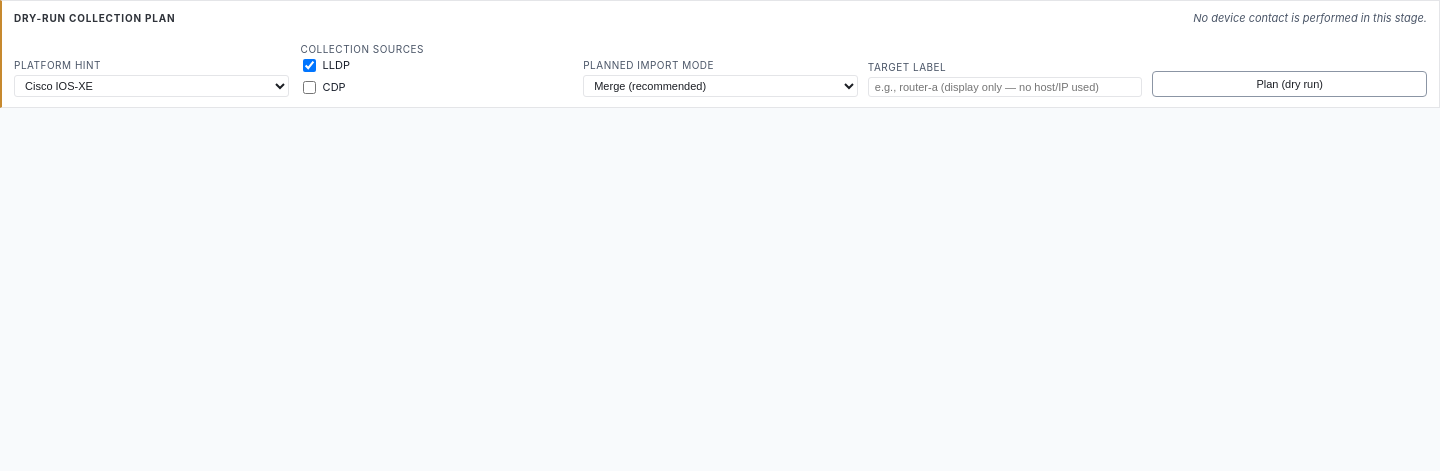
Test: LiveCollectionDryRunPanel — V1AU fixture simulator › renders fixture simulator section after ready plan with honesty note
Click the button with test id "tm-live-collection-plan-button" at (1290, 84), box [1152,71,1427,97]
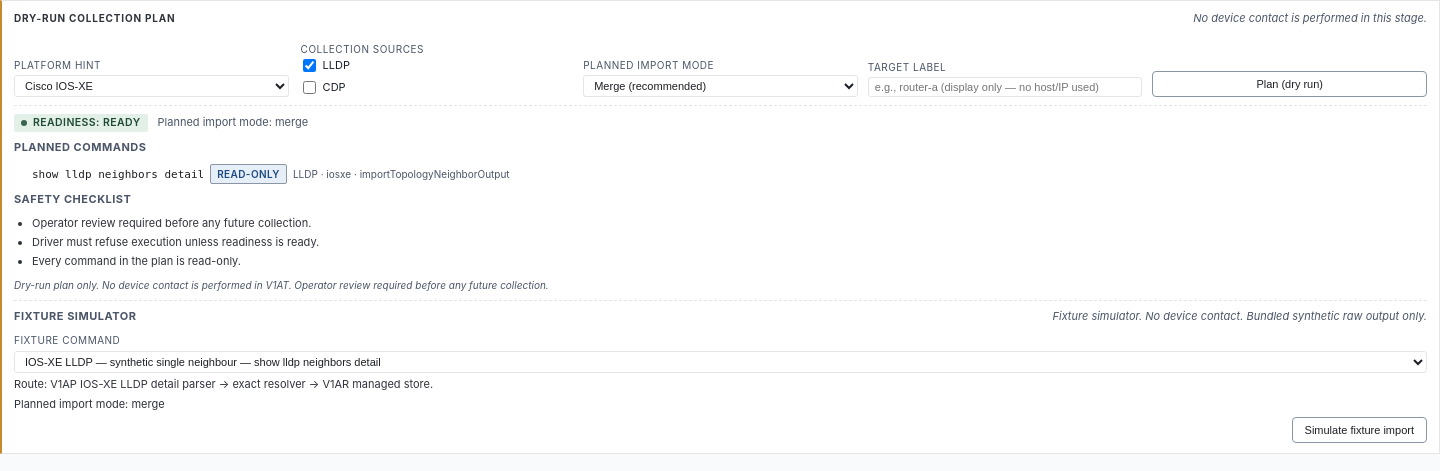
Now the element with test id "tm-live-simulator" is shown, box [14,300,1427,442]
Now the text with test id "tm-live-simulator-honesty" shows "No device contact", box [1052,309,1427,323]
